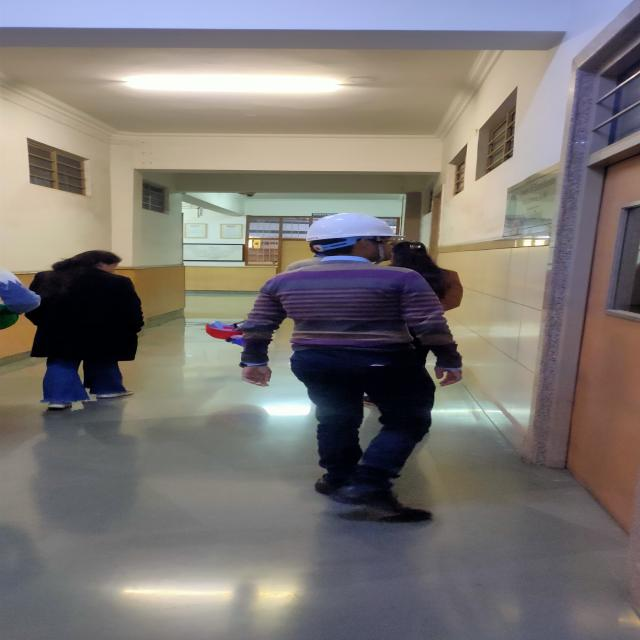no jacket: (238, 213, 464, 522)
unsafe: (27, 250, 147, 409)
